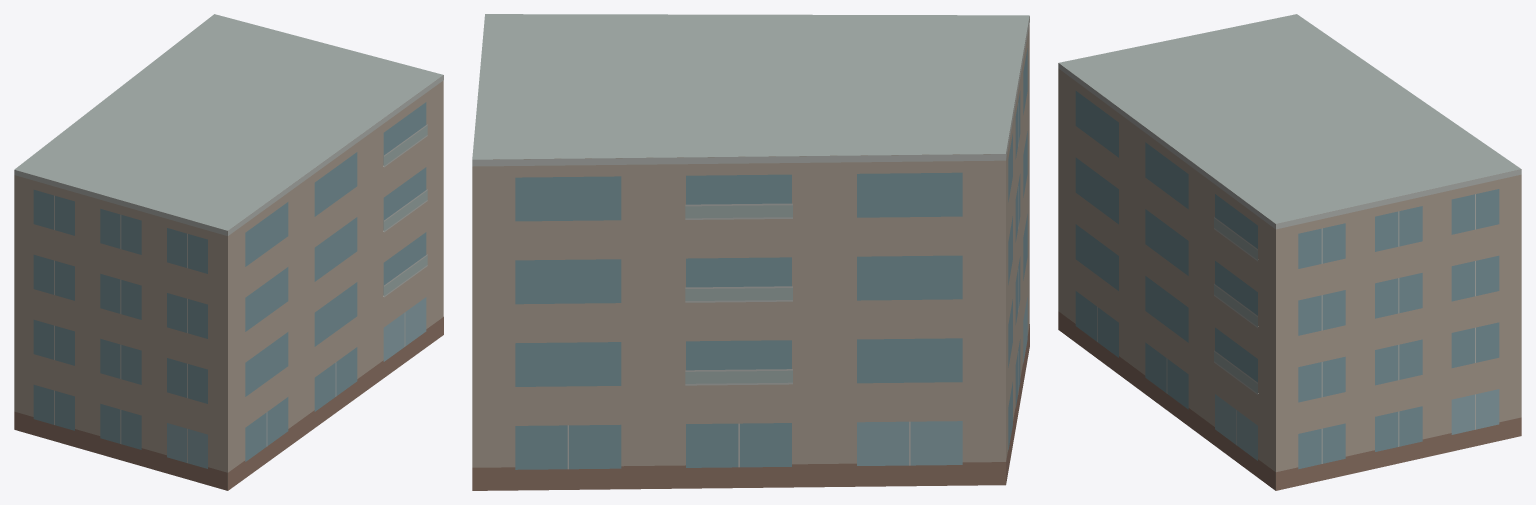
Rendered from survey-upis-32735937.glb.
The picture shows the model from 3 angles, left to right: view 1: azimuth 30°, elevation 25°; view 2: azimuth 150°, elevation 25°; view 3: azimuth 270°, elevation 25°; orthographic projection. The views are drawn at different scales.
Parts seen in each view (by area): view 1: survey-upis-32735937.tmp; view 2: survey-upis-32735937.tmp; view 3: survey-upis-32735937.tmp.
Boxes of the visible parts, left/top/right/bottom form: survey-upis-32735937.tmp: left=14, top=14, right=443, bottom=490; survey-upis-32735937.tmp: left=472, top=14, right=1029, bottom=490; survey-upis-32735937.tmp: left=1058, top=14, right=1521, bottom=490.
Size of the model in its own units: 20 by 11.85 by 18.64.
